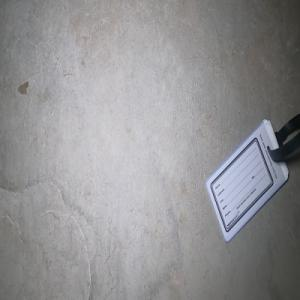LuggageTag: (204, 113, 300, 245)
